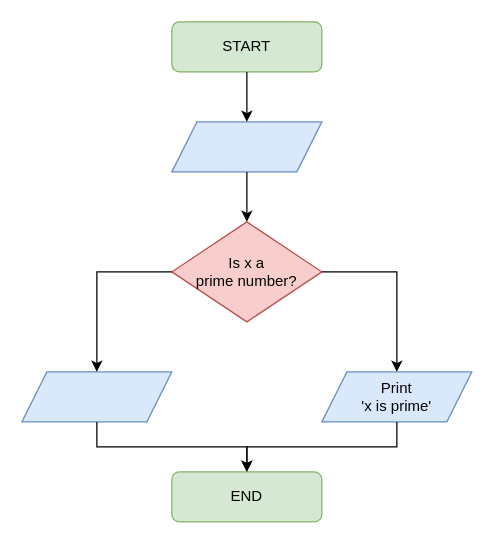
This 494x544 diagram has some shape labels left out. Here are the shapes that lost their labels. From the top down, the box of each, then its label:
(171, 121, 322, 172): Get x = number to check
(21, 371, 172, 422): Print 'x is not prime'
